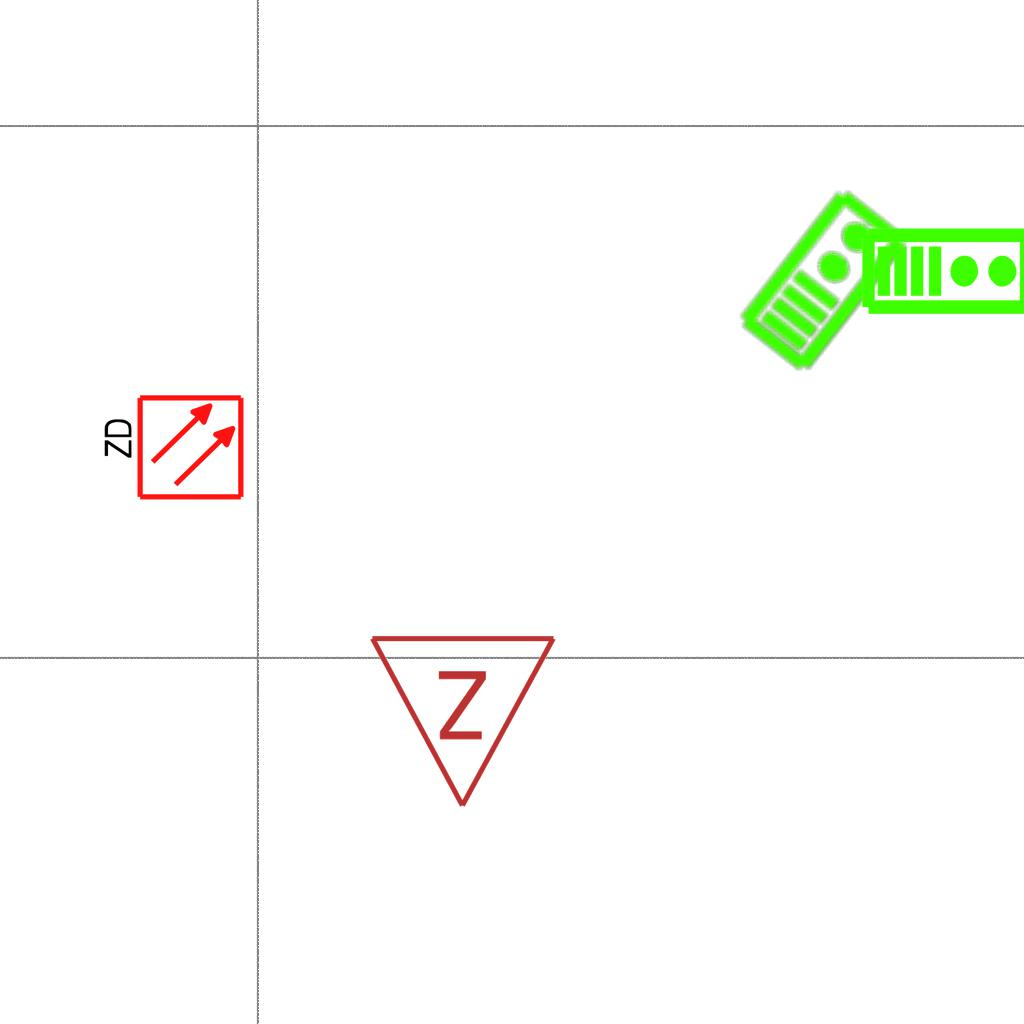Gegensprechanlage_mit_Video: (730, 180, 915, 378), (860, 222, 1024, 317)
ZD_Melder_in_Zwischendecke_mit_Revisionsoeffnung_mind_40_x_40_cm: (97, 392, 246, 506)
Zimmersignalleuchte: (367, 621, 563, 821)
